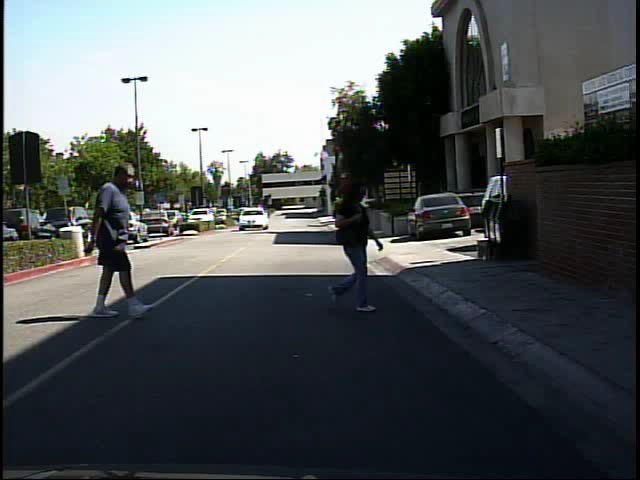person: (69, 162, 159, 324), (322, 174, 400, 318), (59, 203, 81, 256)
